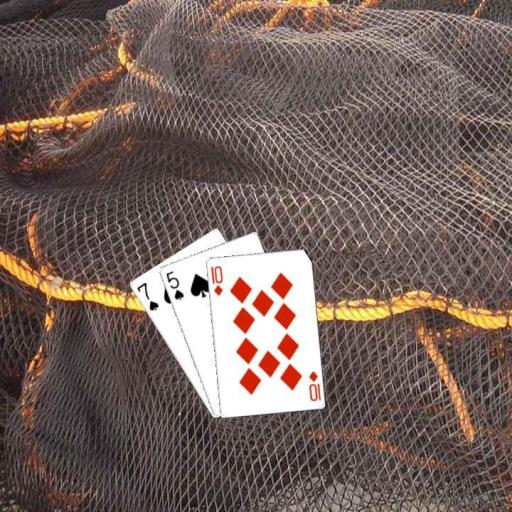10D: (207, 263, 224, 297), (306, 368, 322, 403)
5S: (162, 268, 185, 302)
7S: (133, 280, 160, 312)
